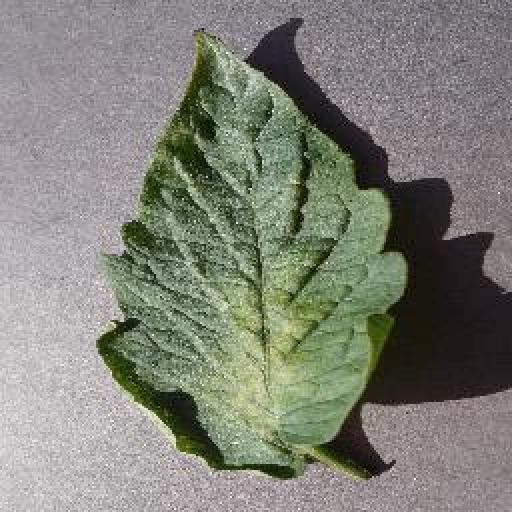disease_tomato: (100, 24, 410, 478)
